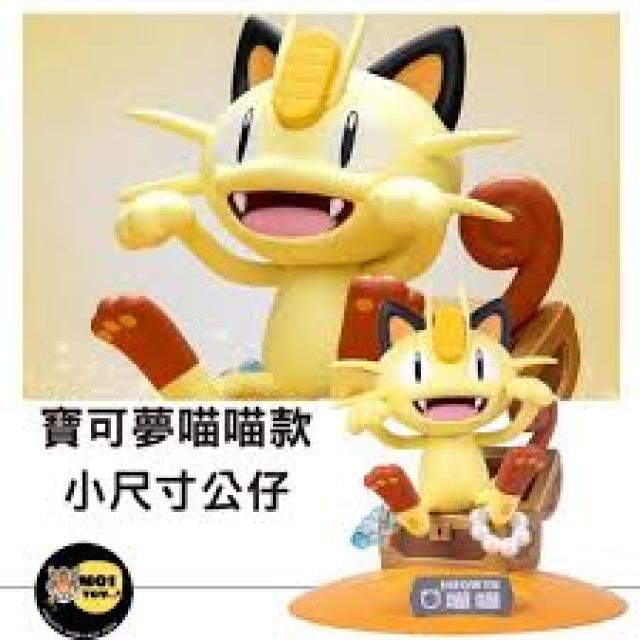Meowth: (198, 21, 456, 400), (374, 302, 528, 536)
